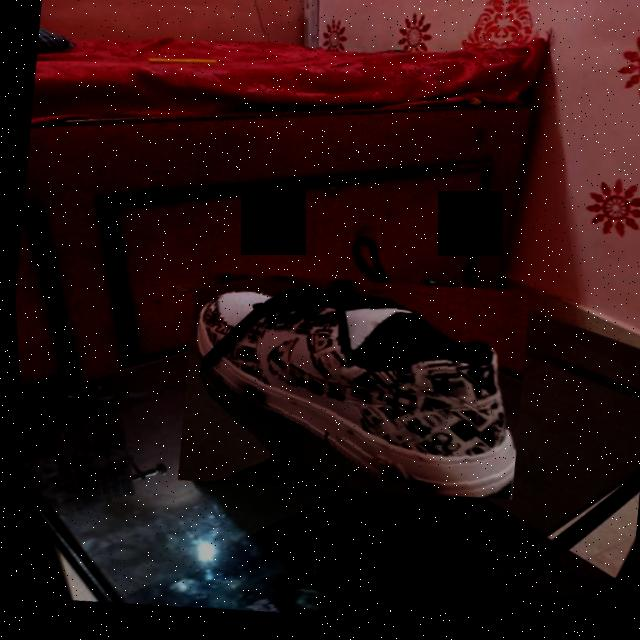shoe: (164, 254, 535, 530)
